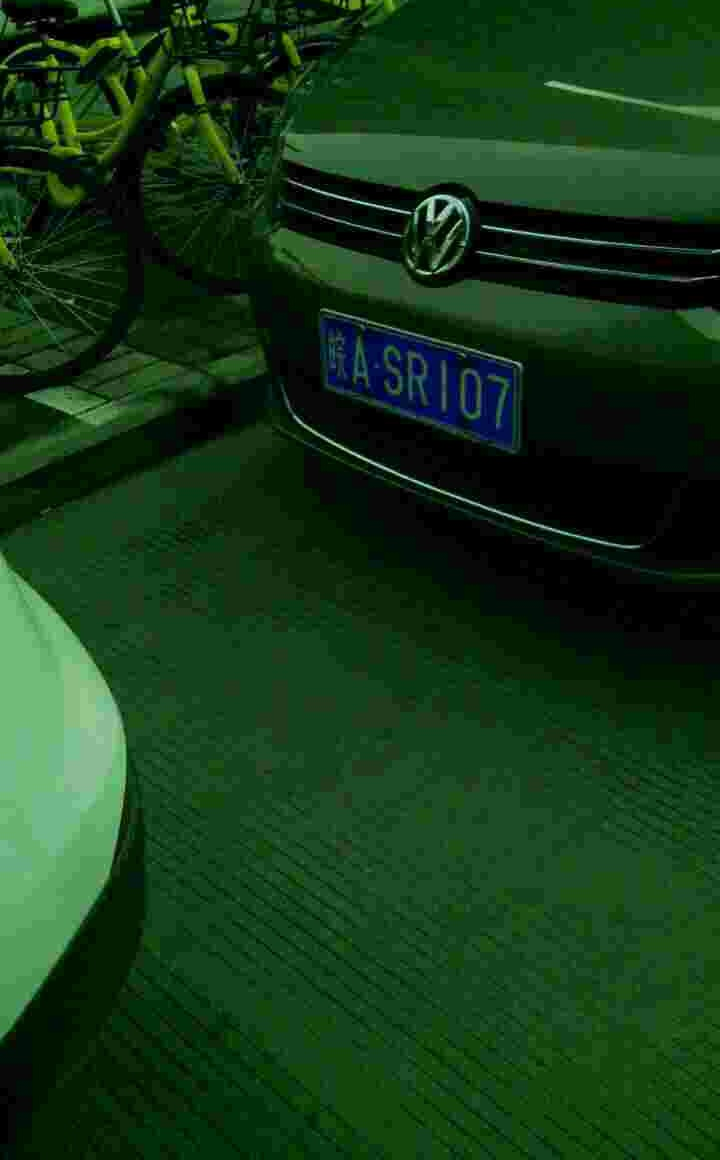license_plate: (315, 314, 509, 446)
